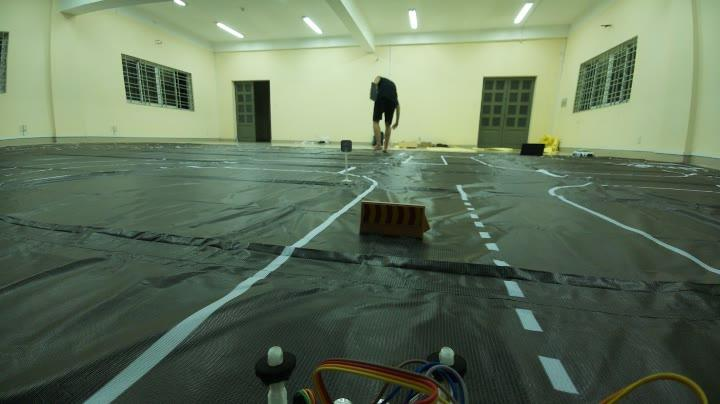roadblock: (356, 195, 436, 262)
